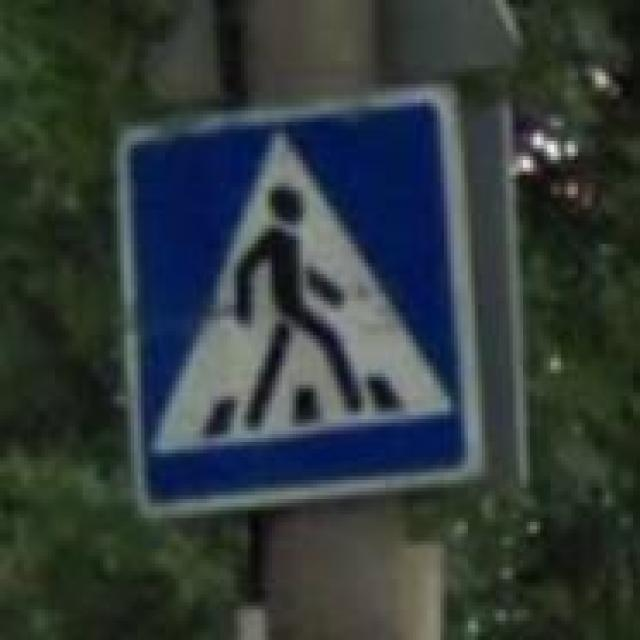traffic_sign: (114, 80, 485, 526)
